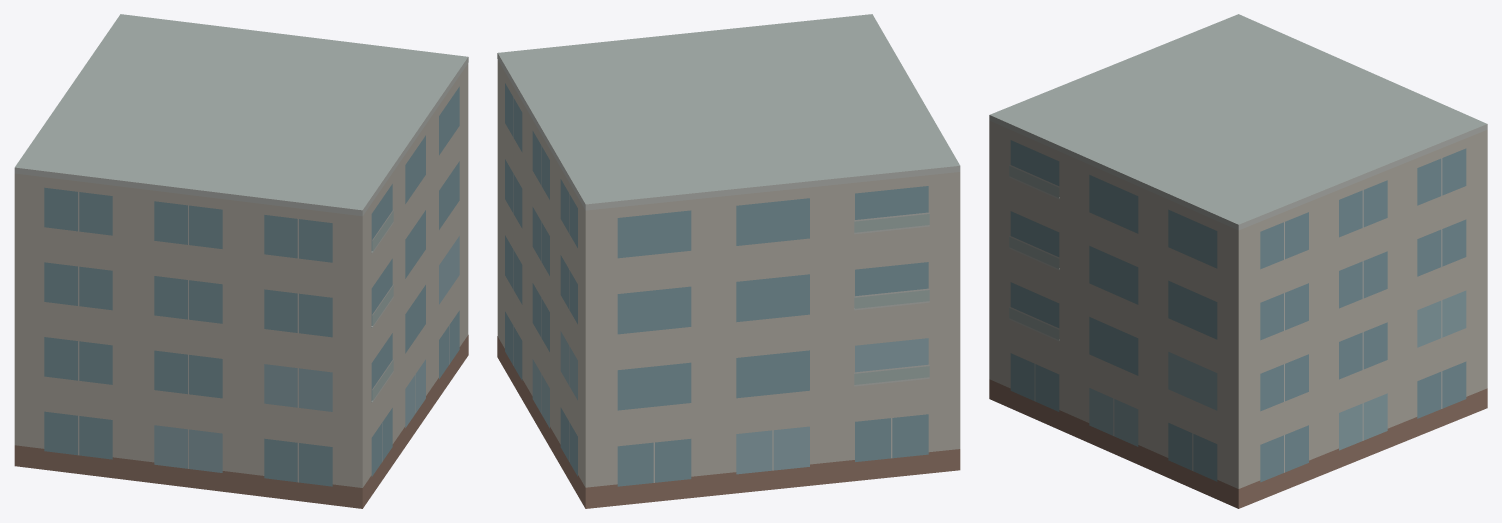
The model's file is residential-c1130b62-93fb-4a14-9e26-792c7baf452c.glb.
3 views of the same model, side by side, from view 1: azimuth 30°, elevation 25°; view 2: azimuth 150°, elevation 25°; view 3: azimuth 270°, elevation 25° (orthographic). The views are drawn at different scales.
Parts seen in each view (by area): view 1: residential-c1130b62-93fb-4a14-9e26-792c7baf452c.tmp; view 2: residential-c1130b62-93fb-4a14-9e26-792c7baf452c.tmp; view 3: residential-c1130b62-93fb-4a14-9e26-792c7baf452c.tmp.
Part boxes in pixels (box(x1,y1,x2,y2)): residential-c1130b62-93fb-4a14-9e26-792c7baf452c.tmp: box(14, 14, 468, 508); residential-c1130b62-93fb-4a14-9e26-792c7baf452c.tmp: box(497, 14, 960, 508); residential-c1130b62-93fb-4a14-9e26-792c7baf452c.tmp: box(989, 14, 1487, 508).
Bounding box in the file's own units: 19.42 × 12.2 × 19.39.
